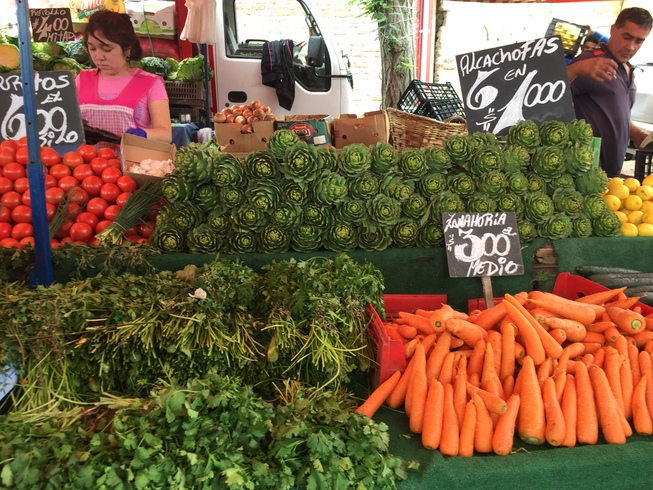precio: (450, 35, 587, 158), (440, 206, 538, 283)
